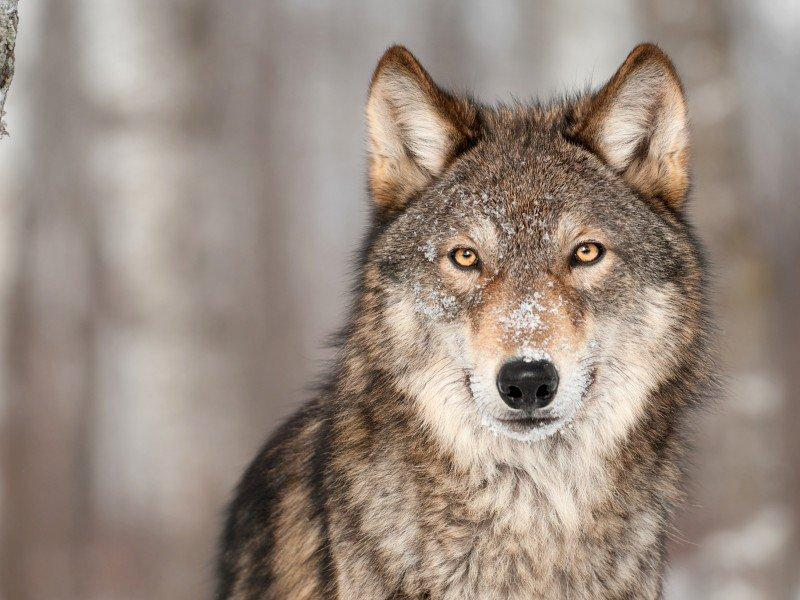Wolf: (216, 44, 715, 599)
